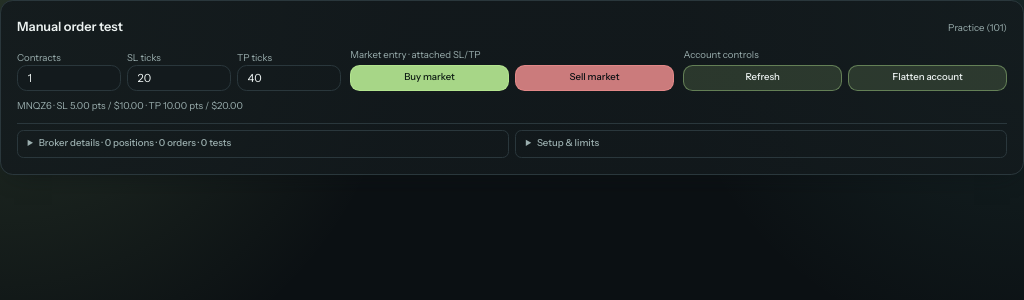
Test: manual broker test panel › replaces the submission receipt with take_profit_hit on broker refresh
Step 1. Click the button with aria-label "Buy market + SL/TP" → (430, 78), box [350,65,509,91]
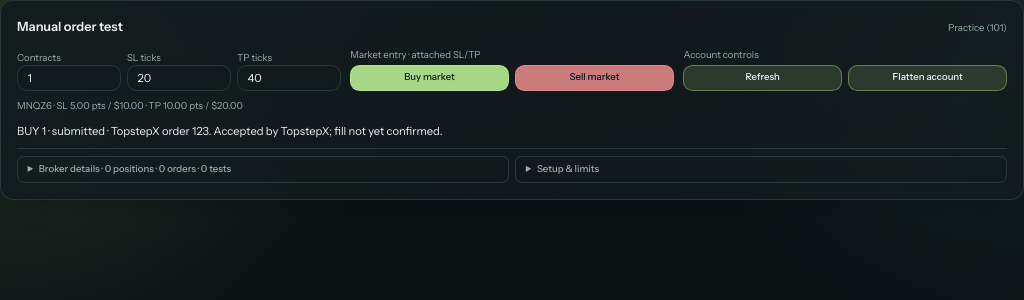
Expected: the text "fill not yet confirmed" is shown, [208,124,443,138]
Step 2. Click the button with aria-label "Refresh broker status" → (763, 78), box [683,65,842,91]
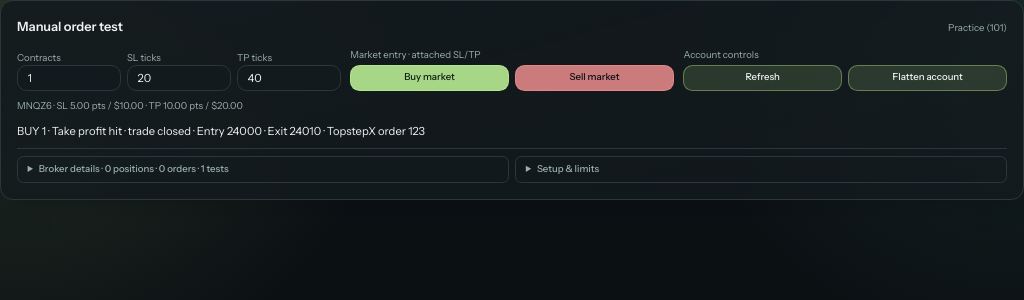
Expected: the message shows "Take profit hit · trade closed", [52,124,191,138]
Expected: the message shows "Entry 24000 · Exit 24010", [191,124,321,138]
Expected: the text "fill not yet confirmed" is gone
